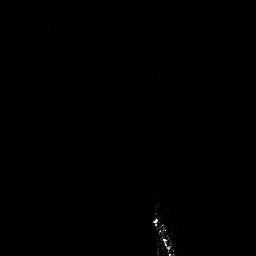ship: (147, 207, 179, 256)
